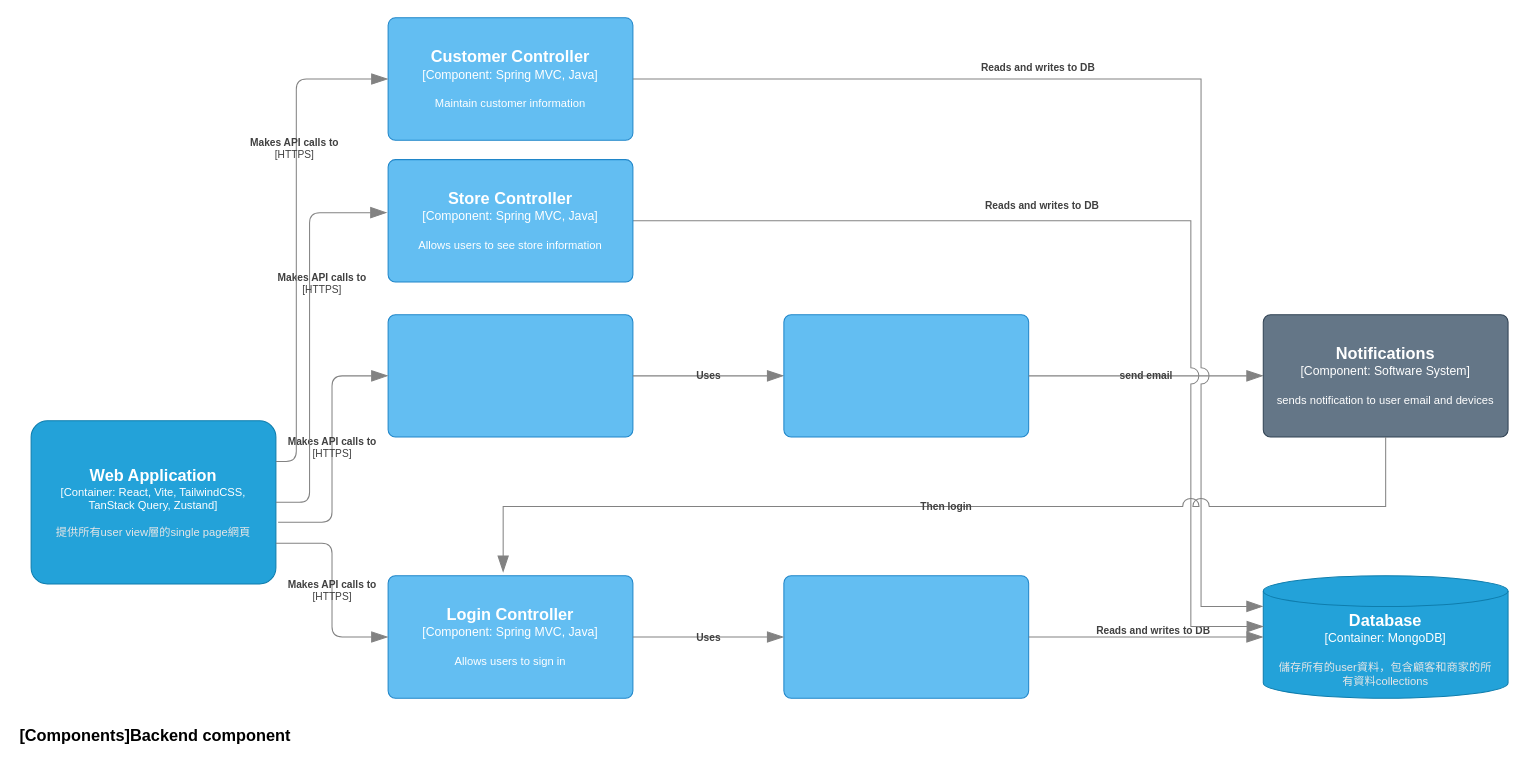
Image size: 1526x777. Some labels were removed from this diagram. The box of each missing label's shape, as (x1, y1, x2, y2) in pixels:
Auth Controller [Component: Spring MVC, Java] Allows users to sign in: (783, 575, 1029, 698)
E-mail sender component [Component: Spring MVC, Java] Process email sender: (783, 314, 1029, 437)
Register Controller [Component: Spring MVC, Java] Allows users to sign up: (387, 314, 633, 437)
